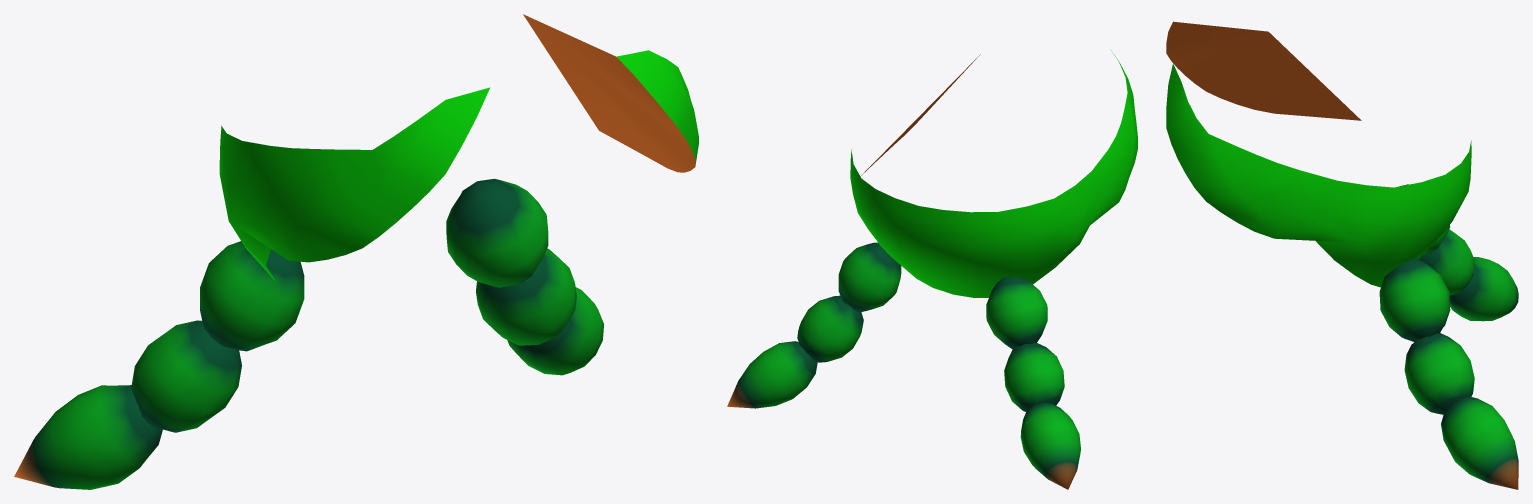
Rendered from Hair2_28.glb.
The picture shows the model from 3 angles, left to right: view 1: azimuth 30°, elevation 25°; view 2: azimuth 150°, elevation 25°; view 3: azimuth 270°, elevation 25°; orthographic projection. The views are drawn at different scales.
Bounding box in the file's own units: 80.46 × 71.15 × 63.78.
